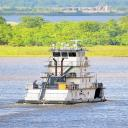tugboat: (16, 38, 109, 108)
